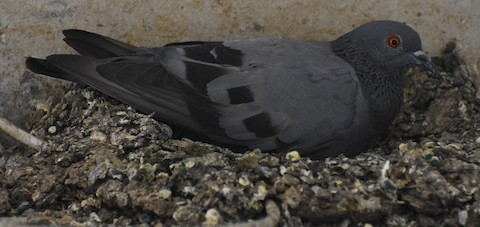pigeon: (26, 10, 443, 164)
